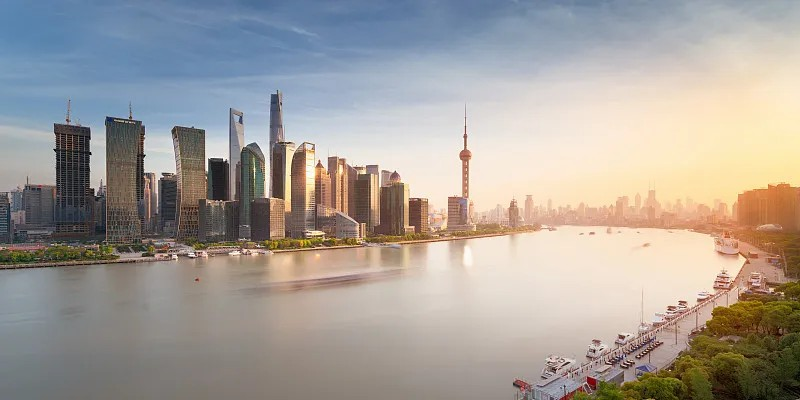Oriental: (459, 104, 473, 212)
